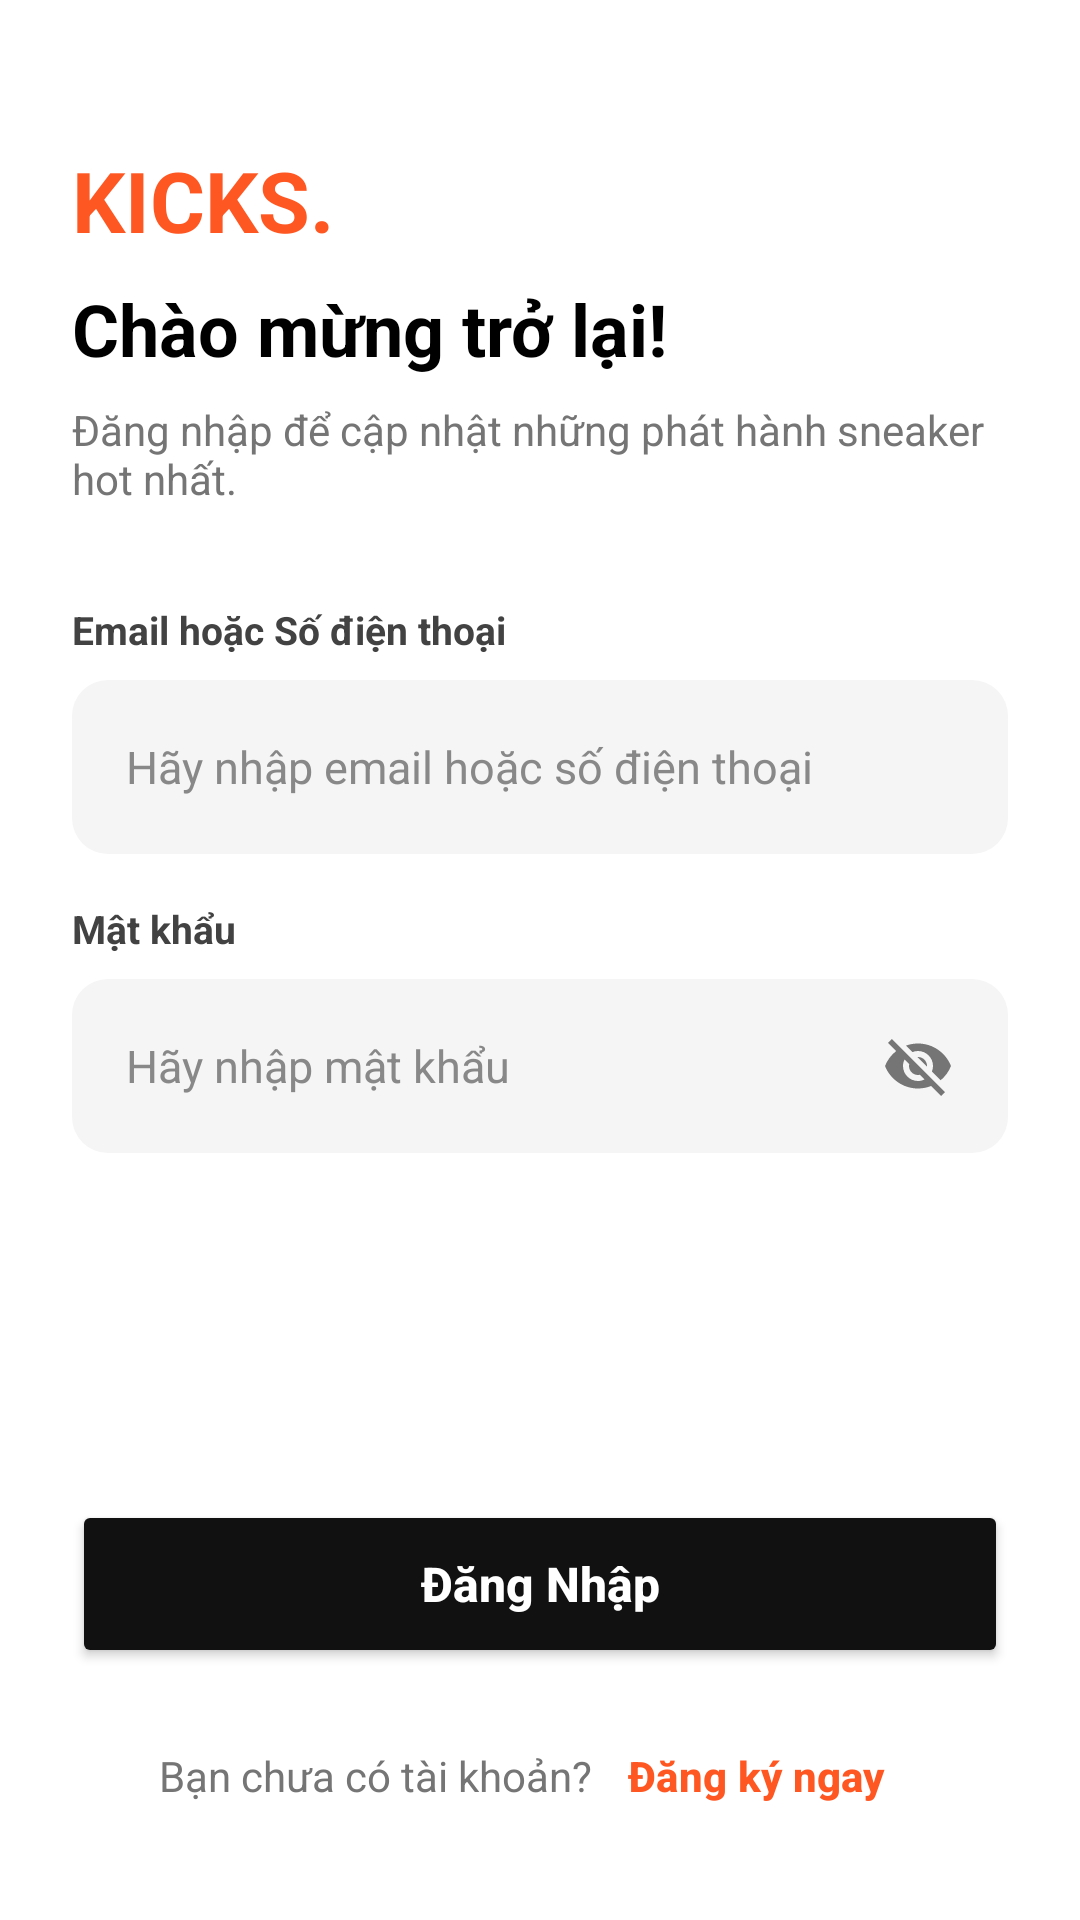

Where icons sit on this 1080 x 1920 app screen, as (x1, y1, x2, y2):
Ẩn hiện mật khẩu: (885, 1039, 951, 1096)
